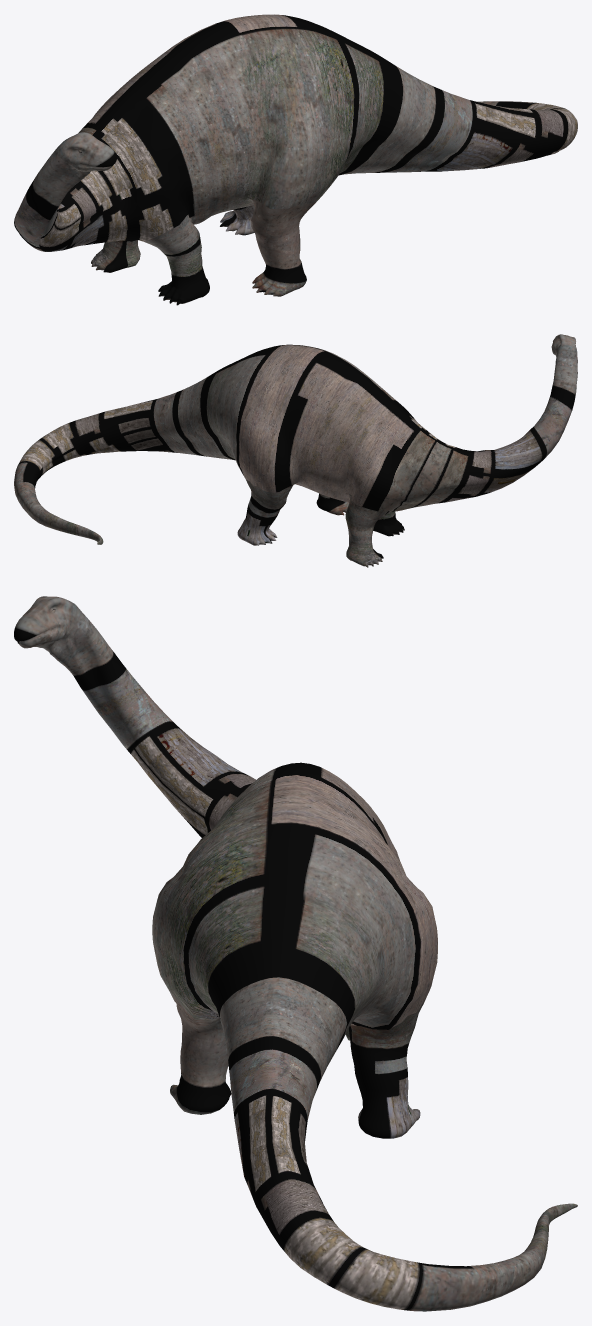
The model's file is Apatosaurus.obj.
The picture shows the model from 3 angles, top to bottom: view 1: azimuth 30°, elevation 25°; view 2: azimuth 150°, elevation 25°; view 3: azimuth 270°, elevation 25°; orthographic projection. The views are drawn at different scales.
Visible parts, largest first — view 1: brontosaurus.1_Mesh_0; view 2: brontosaurus.1_Mesh_0; view 3: brontosaurus.1_Mesh_0.
Boxes of the visible parts, bbox=[...] form: brontosaurus.1_Mesh_0: bbox=[14, 14, 577, 305]; brontosaurus.1_Mesh_0: bbox=[14, 334, 577, 567]; brontosaurus.1_Mesh_0: bbox=[14, 596, 577, 1311].
Size of the model in its own units: 7.89 by 3.02 by 4.52.
